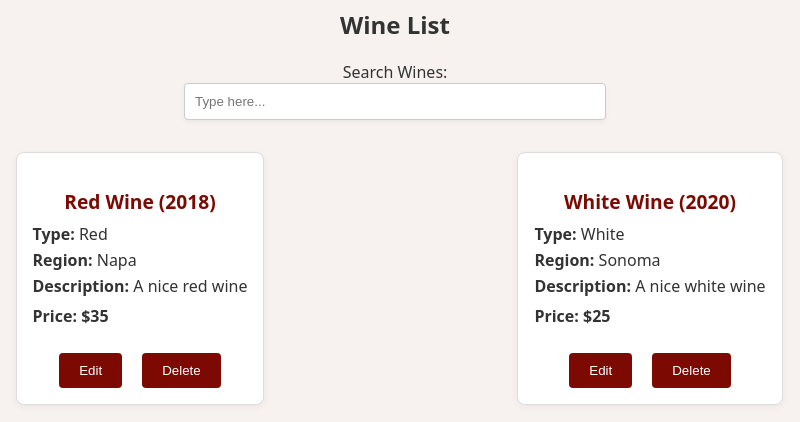
Test case: ProductPage › filters wines based on search term
Type "White" into the field labelled "Search Wines:" at (395, 101), box [184, 83, 606, 120]
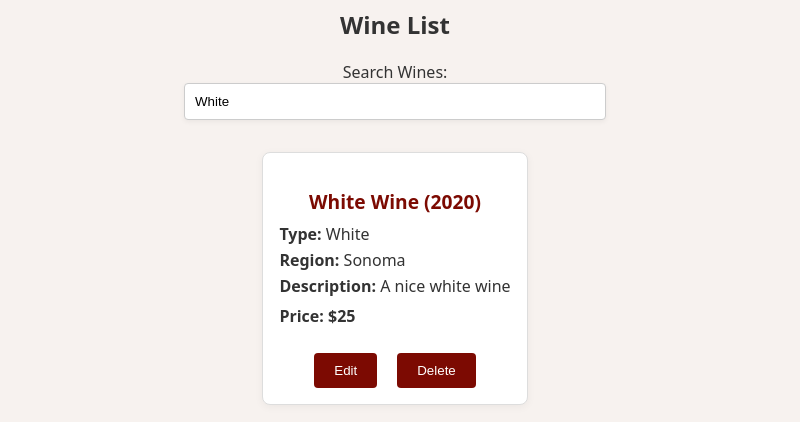
Expected: the heading "White Wine (2020)" is shown, [309, 188, 481, 215]
Expected: the heading "Red Wine" is gone
